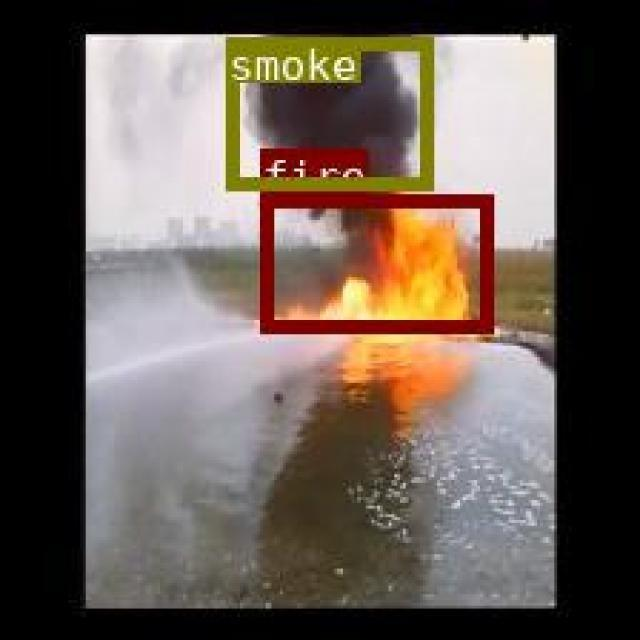fire: (260, 192, 490, 330)
smoke: (226, 37, 431, 188)
